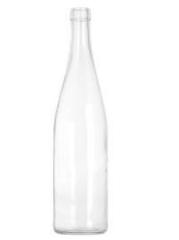glass: (53, 8, 110, 237)
